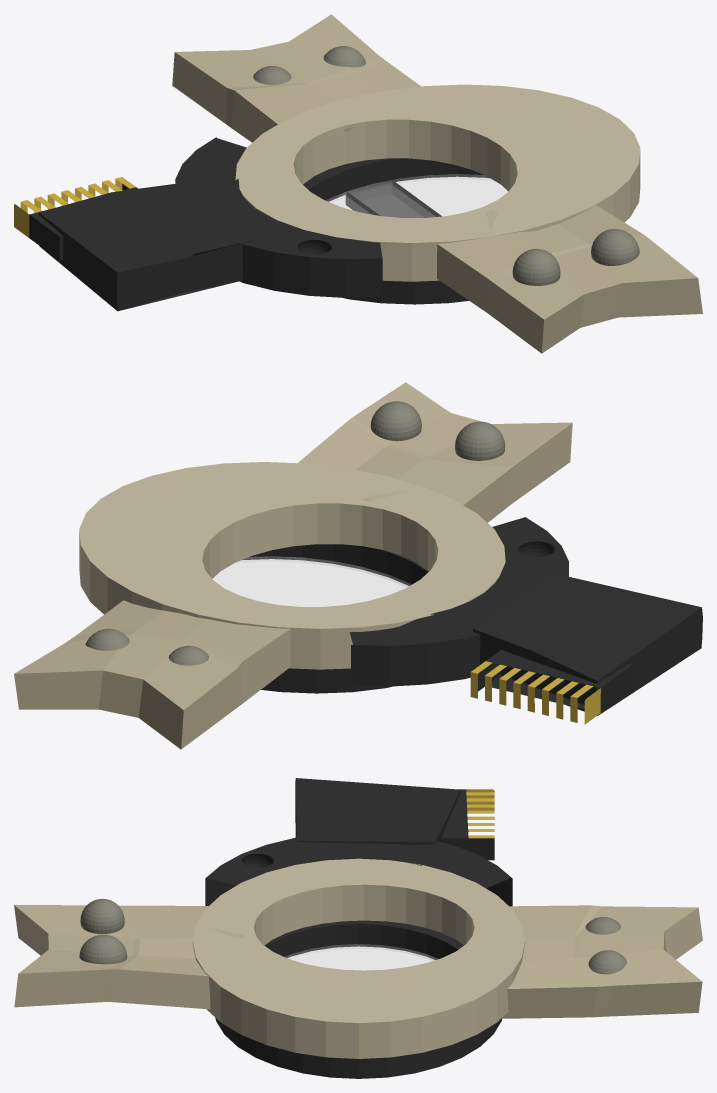
3 renders of one model, top to bottom at view 1: azimuth 30°, elevation 25°; view 2: azimuth 150°, elevation 25°; view 3: azimuth 270°, elevation 25°, orthographic. The views are drawn at different scales.
Visible parts, largest first — view 1: Cylinder.001, Cube.002, Cube, Cube.001, Cylinder, Cylinder.004, Cylinder.003, Cube.003, Cube.004, Sphere.001, Sphere, Sphere.003 (+1 smaller); view 2: Cylinder.001, Cube.001, Cube, Cube.002, Cylinder, Cylinder.003, Cube.003, Cylinder.004, Sphere, Sphere.001, Sphere.003, Sphere.002; view 3: Cylinder.001, Cube.001, Cube.002, Cylinder.004, Cube, Cylinder, Cylinder.003, Cube.003, Sphere.001, Sphere, Sphere.003, Sphere.002.
Boxes of the visible parts, bbox=[...] form: Cylinder.001: bbox=[235, 84, 640, 281]; Cube.002: bbox=[437, 205, 702, 353]; Cube: bbox=[39, 182, 252, 311]; Cube.001: bbox=[172, 14, 420, 142]; Cylinder: bbox=[175, 137, 382, 297]; Cylinder.004: bbox=[303, 158, 489, 304]; Cylinder.003: bbox=[326, 174, 507, 217]; Cube.003: bbox=[14, 177, 137, 260]; Cube.004: bbox=[345, 180, 441, 217]; Sphere.001: bbox=[512, 248, 560, 285]; Sphere: bbox=[591, 229, 639, 265]; Sphere.003: bbox=[323, 46, 365, 67]; Cylinder.001: bbox=[79, 462, 505, 669]; Cube.001: bbox=[14, 600, 290, 749]; Cube: bbox=[473, 574, 702, 715]; Cube.002: bbox=[297, 382, 572, 522]; Cylinder: bbox=[349, 517, 568, 686]; Cylinder.003: bbox=[212, 556, 411, 606]; Cube.003: bbox=[470, 650, 632, 724]; Cylinder.004: bbox=[242, 544, 428, 693]; Sphere: bbox=[370, 401, 421, 441]; Sphere.001: bbox=[455, 421, 505, 460]; Sphere.003: bbox=[85, 628, 129, 650]; Sphere.002: bbox=[168, 645, 208, 665]; Cylinder.001: bbox=[192, 858, 525, 1058]; Cube.001: bbox=[501, 905, 702, 1018]; Cube.002: bbox=[14, 905, 245, 1009]; Cylinder.004: bbox=[215, 920, 501, 1078]; Cube: bbox=[295, 778, 460, 845]; Cylinder: bbox=[205, 837, 512, 906]; Cylinder.003: bbox=[285, 944, 437, 970]; Cube.003: bbox=[441, 789, 494, 860]; Sphere.001: bbox=[80, 898, 124, 933]; Sphere: bbox=[79, 934, 127, 964]; Sphere.003: bbox=[588, 950, 626, 974]; Sphere.002: bbox=[585, 917, 620, 934].
Bounding box in the file's own units: 6.79 × 1.35 × 8.14.
